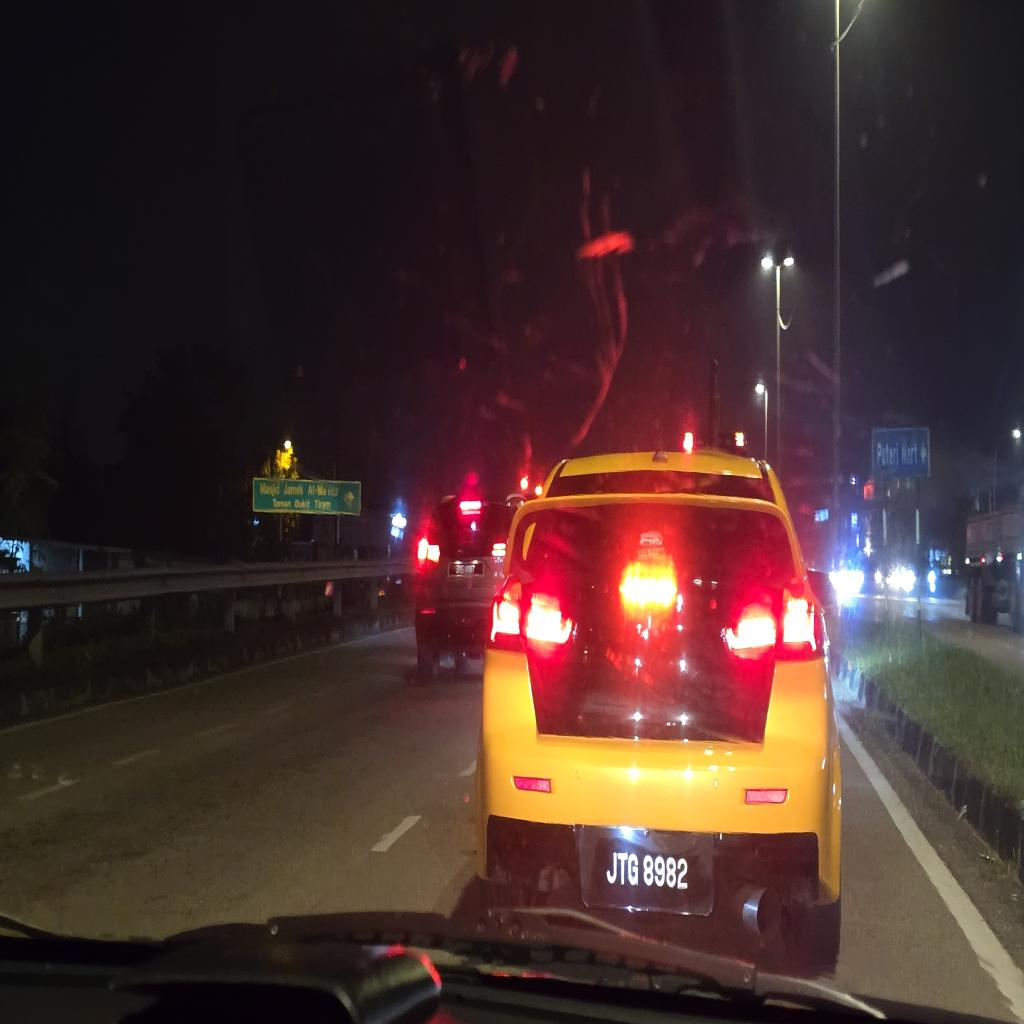car: (477, 451, 841, 966)
car plate: (579, 827, 713, 915)
